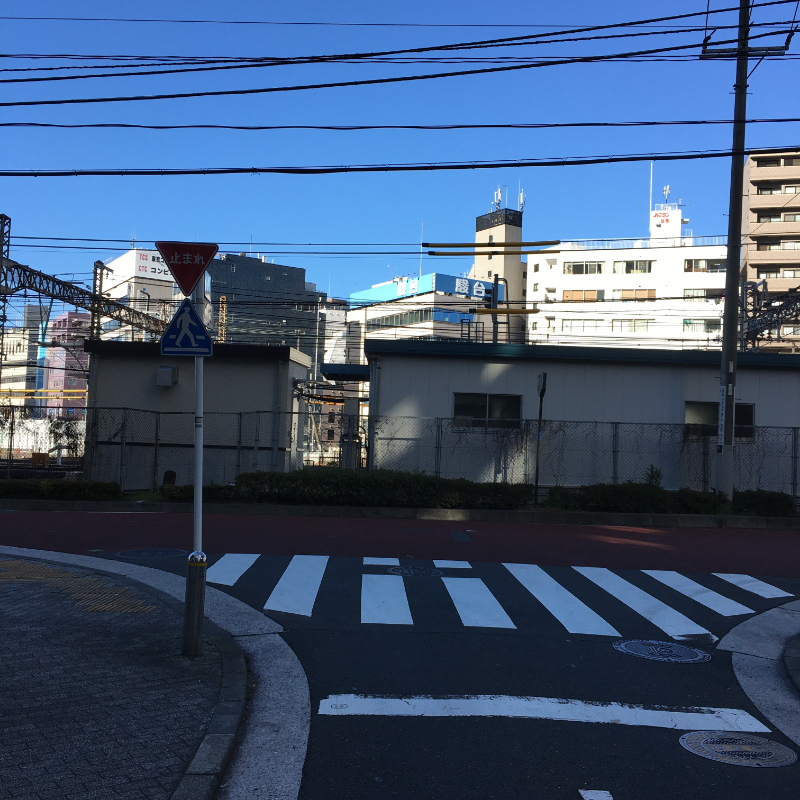STOP: (149, 240, 222, 298)
